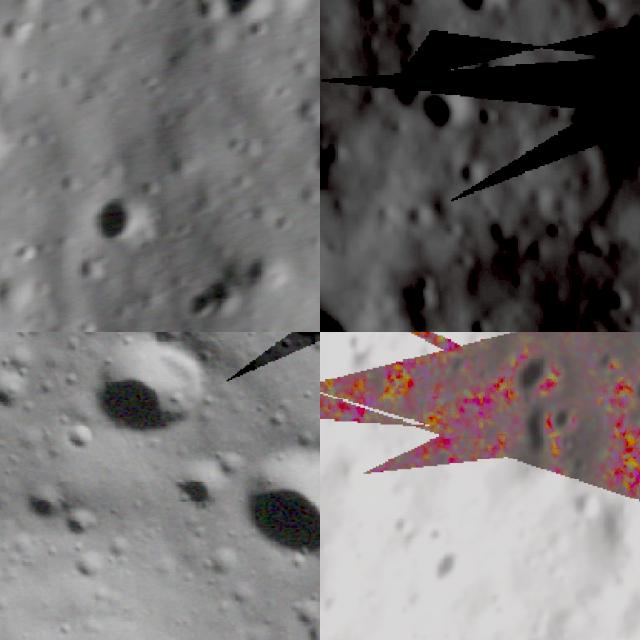crater: (70, 332, 234, 460), (223, 412, 320, 578), (73, 188, 156, 272), (173, 269, 247, 332), (202, 0, 282, 45), (169, 459, 230, 518), (0, 355, 53, 421), (505, 401, 559, 462), (412, 81, 467, 137), (514, 348, 564, 401), (61, 250, 110, 298), (441, 0, 521, 28), (0, 11, 42, 59), (57, 502, 103, 544), (430, 548, 468, 598), (253, 0, 320, 24), (543, 404, 586, 441), (0, 116, 23, 183), (328, 332, 372, 367), (558, 483, 595, 523), (60, 419, 96, 458), (612, 0, 640, 50), (300, 138, 320, 192), (274, 332, 320, 344)
